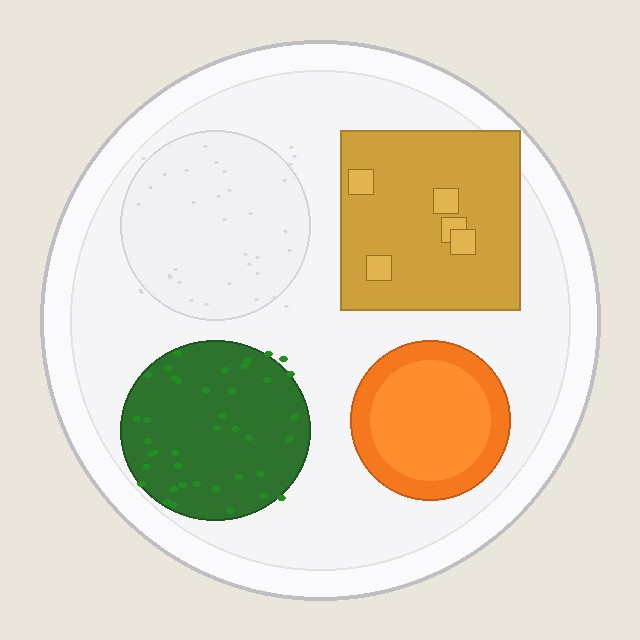buah: (350, 340, 510, 500)
karbohidrat: (120, 130, 310, 320)
protein_nabati: (340, 130, 520, 310)
sayuran: (120, 340, 310, 520)
